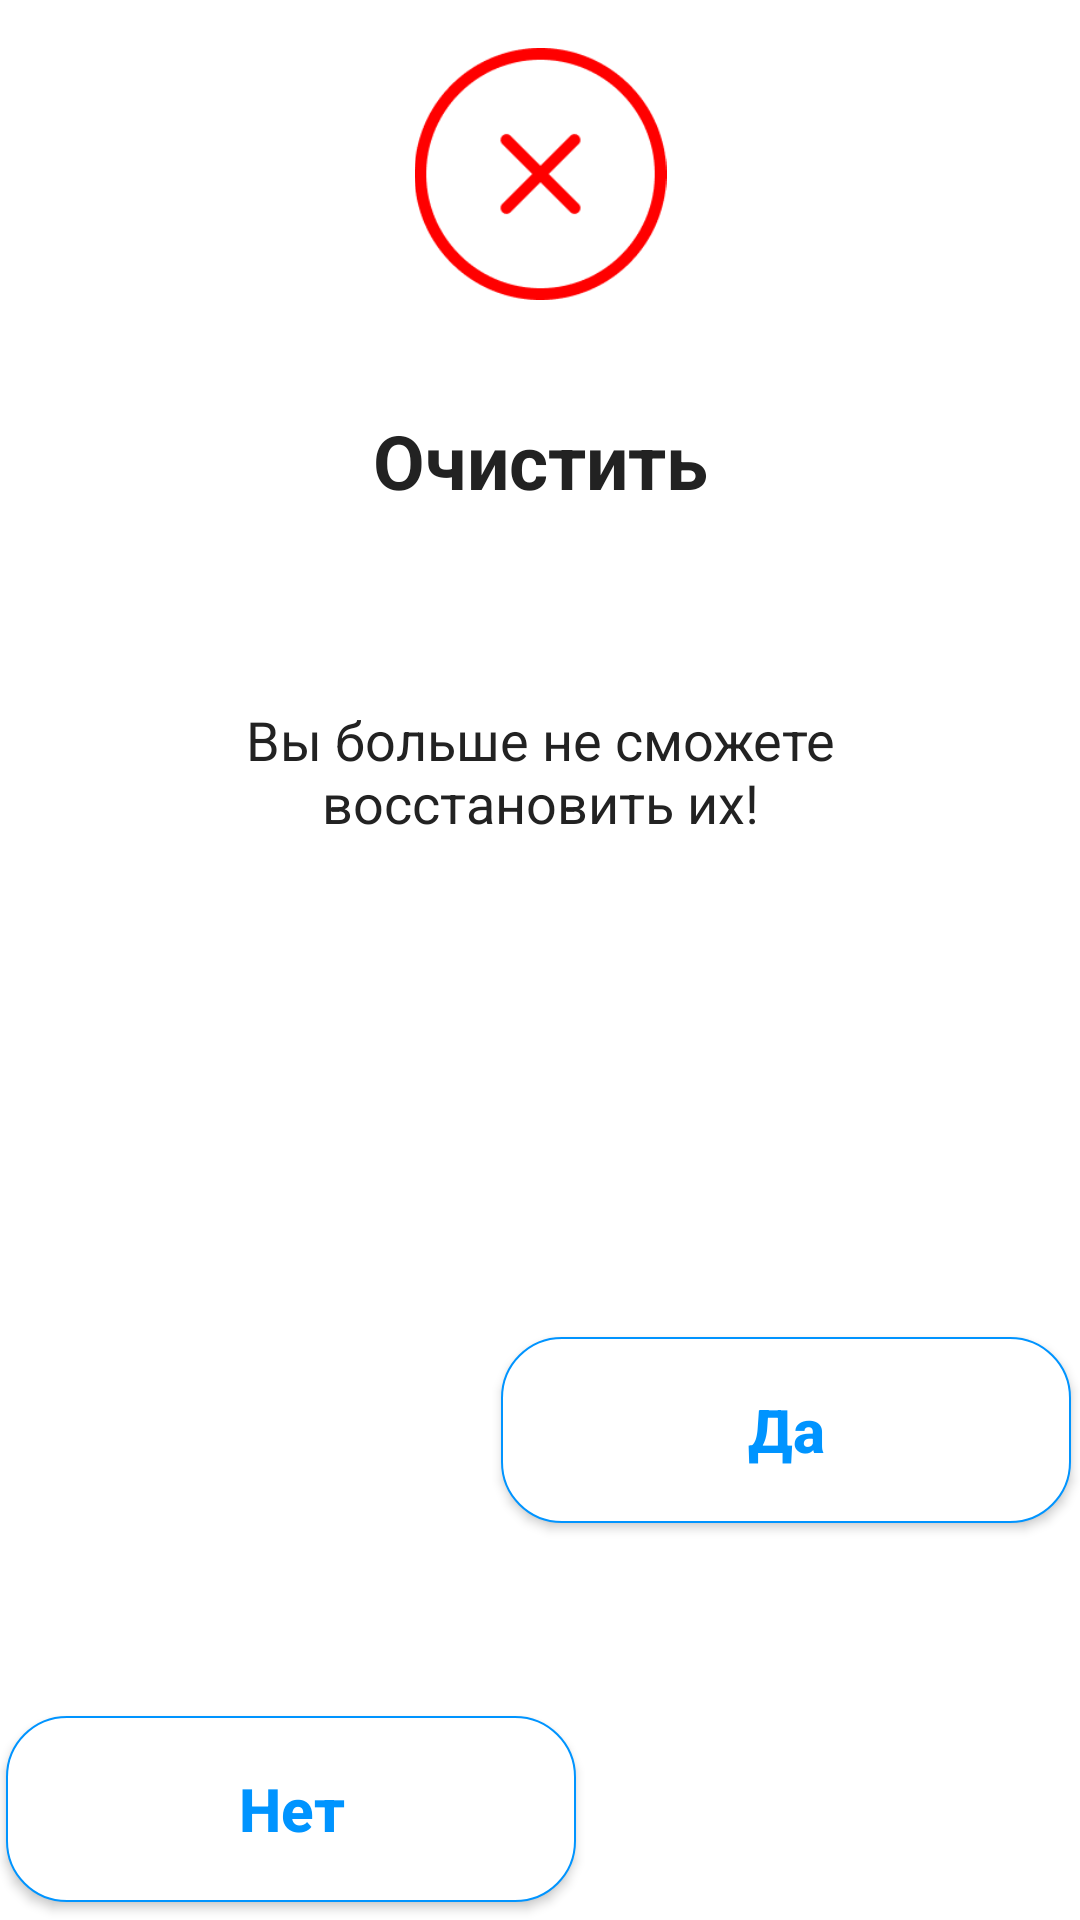

Where icons sit on this 1080w x 1920h app screen, as (x1, y1, x2, y2):
delete: (415, 48, 667, 300)
